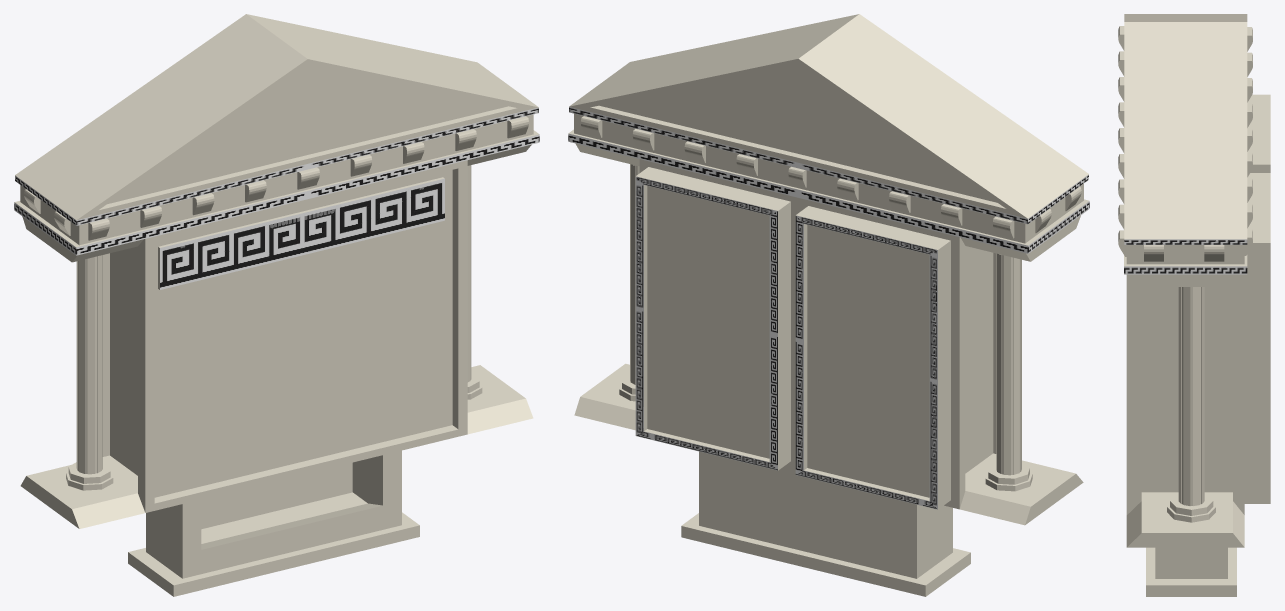
Rendered from MaquinaExpendedora.fbx.
3 views of the same model, side by side, from view 1: azimuth 30°, elevation 25°; view 2: azimuth 150°, elevation 25°; view 3: azimuth 270°, elevation 25° (orthographic).
Visible parts, largest first — view 1: MaquinaExpendedora; view 2: MaquinaExpendedora; view 3: MaquinaExpendedora.
Part boxes in pixels (x1,y1,x2,y2): MaquinaExpendedora: (14,14,539,596); MaquinaExpendedora: (568,14,1089,596); MaquinaExpendedora: (1118,14,1270,596).
Bounding box in the file's own units: 290 × 306 × 81.89.
